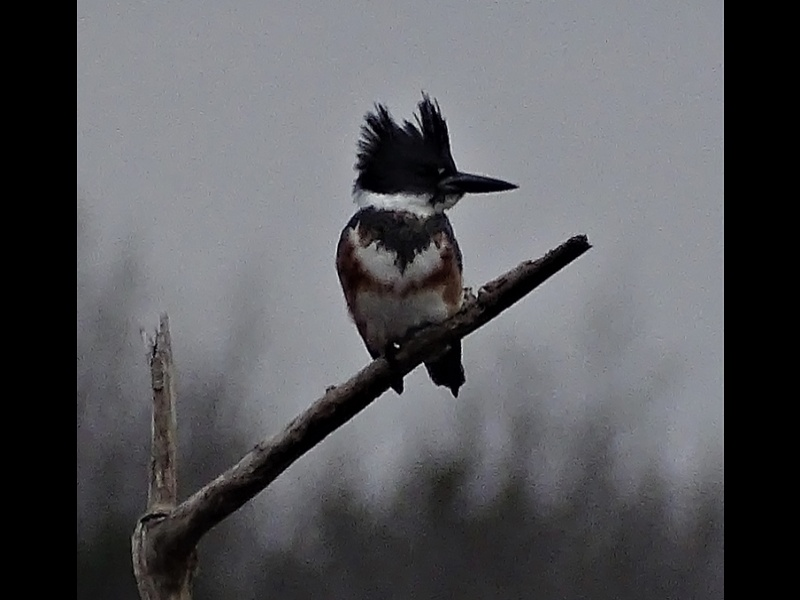kingfisher: (331, 89, 522, 404)
